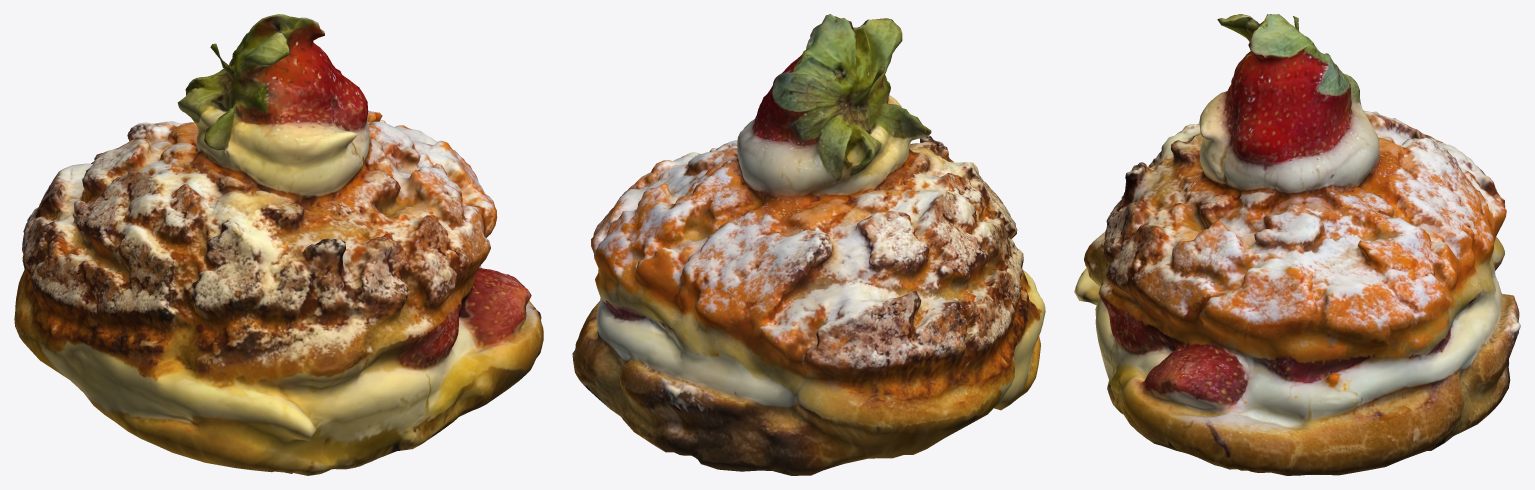
The model's file is almanPastasi.glb.
3 views of the same model, side by side, from view 1: azimuth 30°, elevation 25°; view 2: azimuth 150°, elevation 25°; view 3: azimuth 270°, elevation 25° (orthographic). The views are drawn at different scales.
Parts seen in each view (by area): view 1: ObjectCapture; view 2: ObjectCapture; view 3: ObjectCapture.
Boxes of the visible parts, left/top/right/bottom form: ObjectCapture: left=14, top=14, right=543, bottom=475; ObjectCapture: left=572, top=14, right=1045, bottom=475; ObjectCapture: left=1074, top=14, right=1520, bottom=475.
Size of the model in its own units: 0.1217 by 0.1038 by 0.1114.
Materials: 1 (1 with a texture image).
